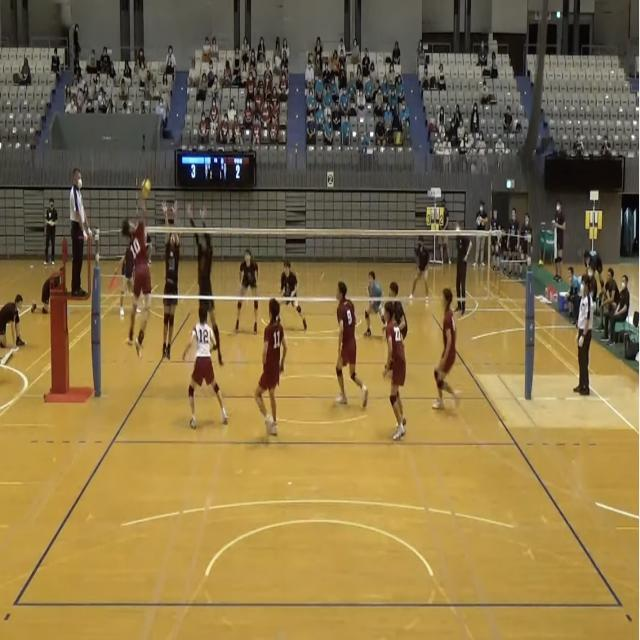spike: (120, 177, 158, 363)
